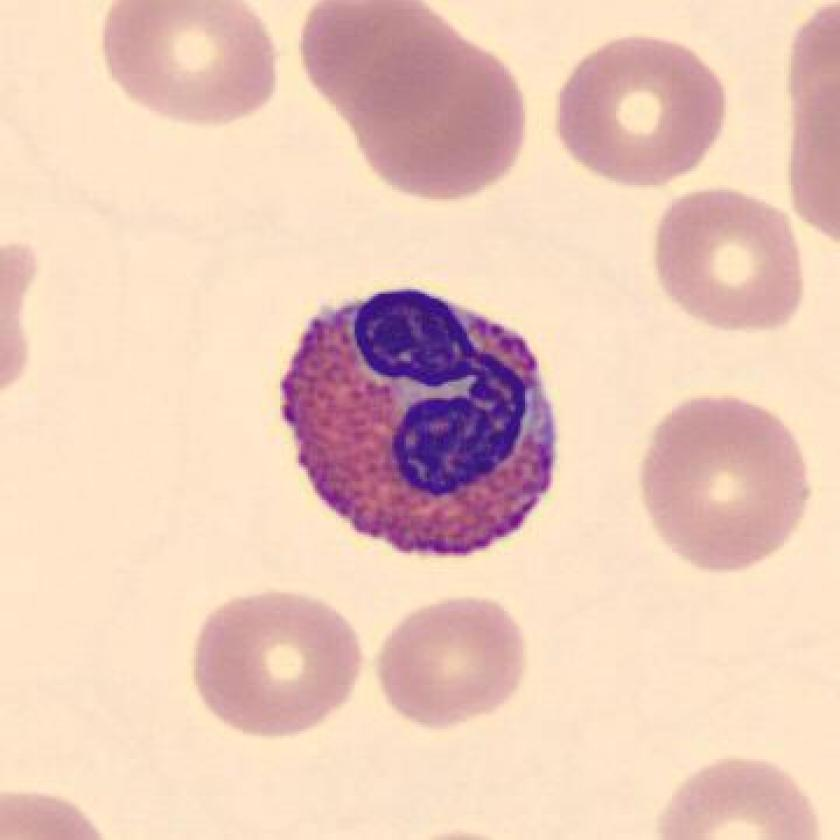eosinophil: (272, 277, 573, 578)
